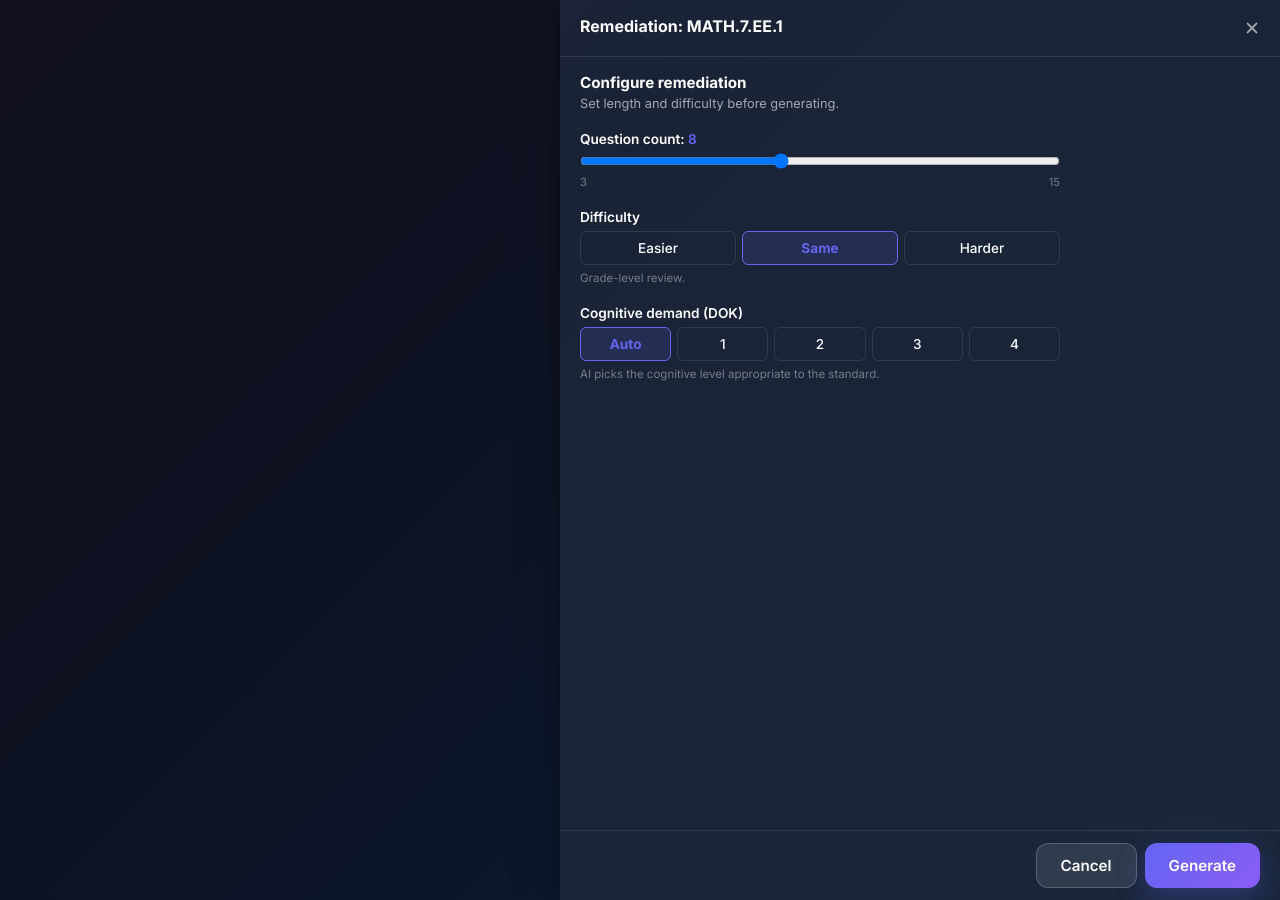
RemediationDrawer mounts with content from every extracted section › config controls update: difficulty + DOK selection change helper text
The width and height of the screenshot is (1280, 900).
Click the button "easier": (658, 248) left=580, top=231, right=736, bottom=265
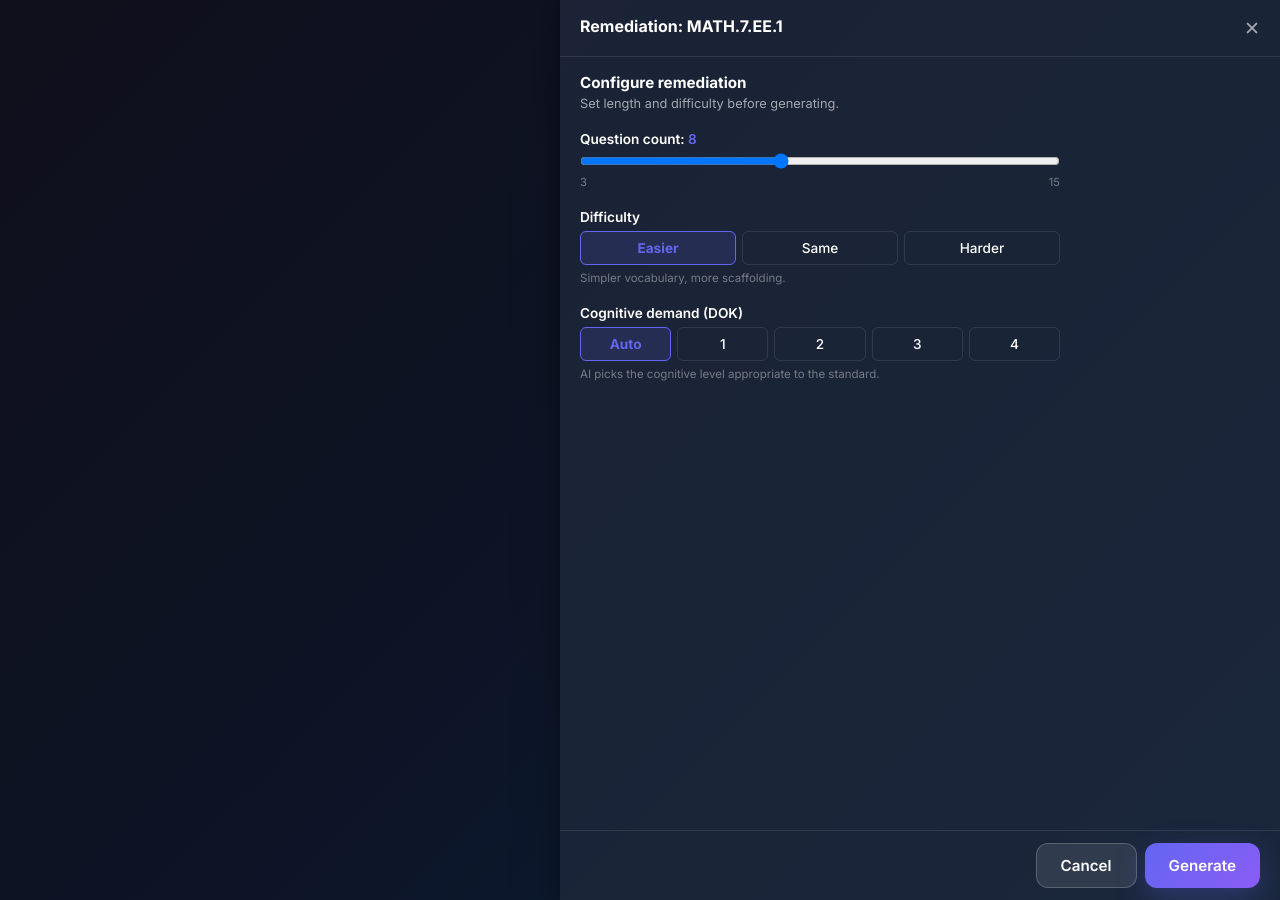
Now the text "Simpler vocabulary, more scaffolding." is shown, box left=580, top=271, right=786, bottom=285
Click the button "3": (917, 344) left=872, top=327, right=963, bottom=361
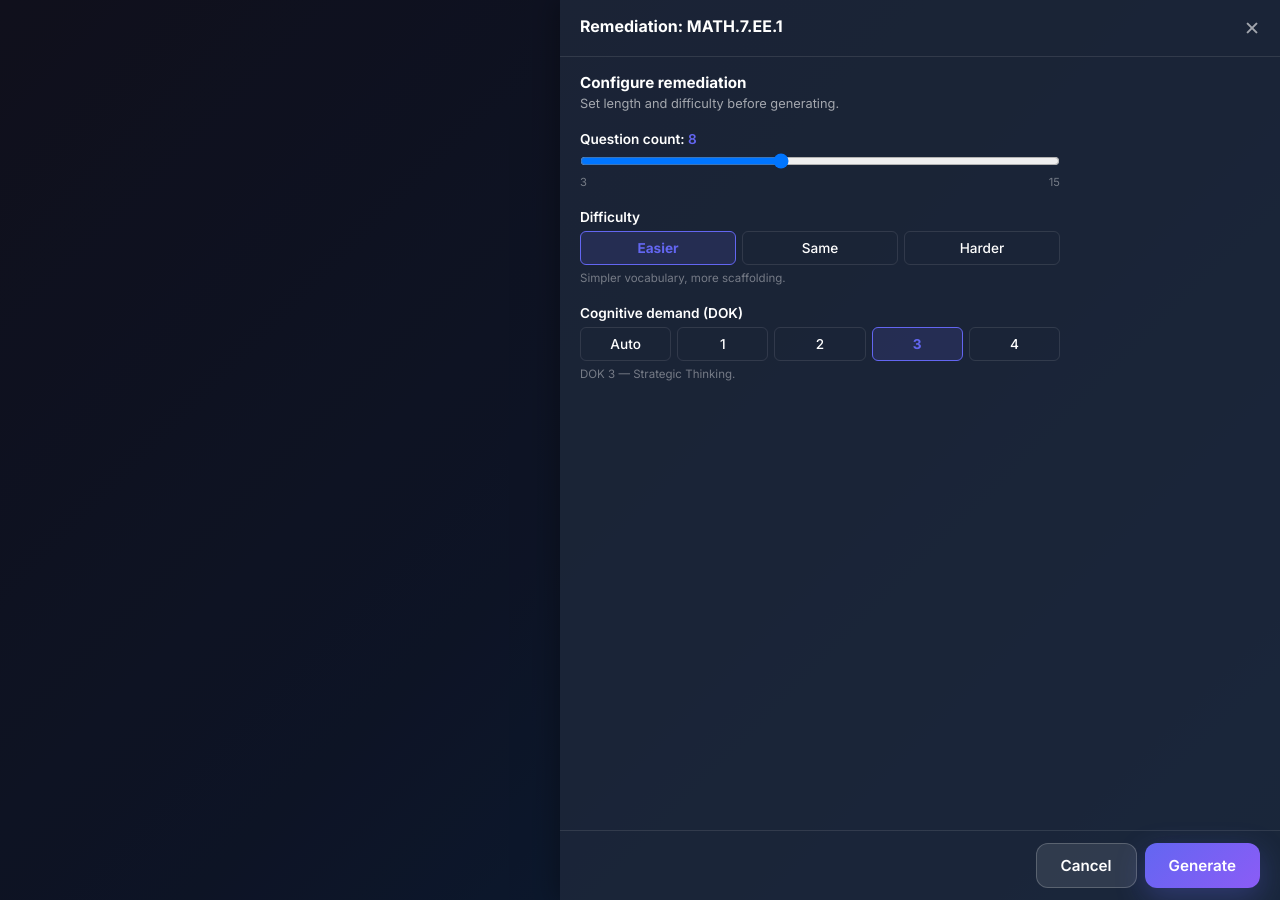
Now the text "DOK 3 — Strategic Thinking." is shown, box left=580, top=367, right=735, bottom=381
